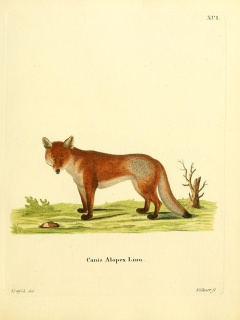Fox: (40, 135, 192, 220)
